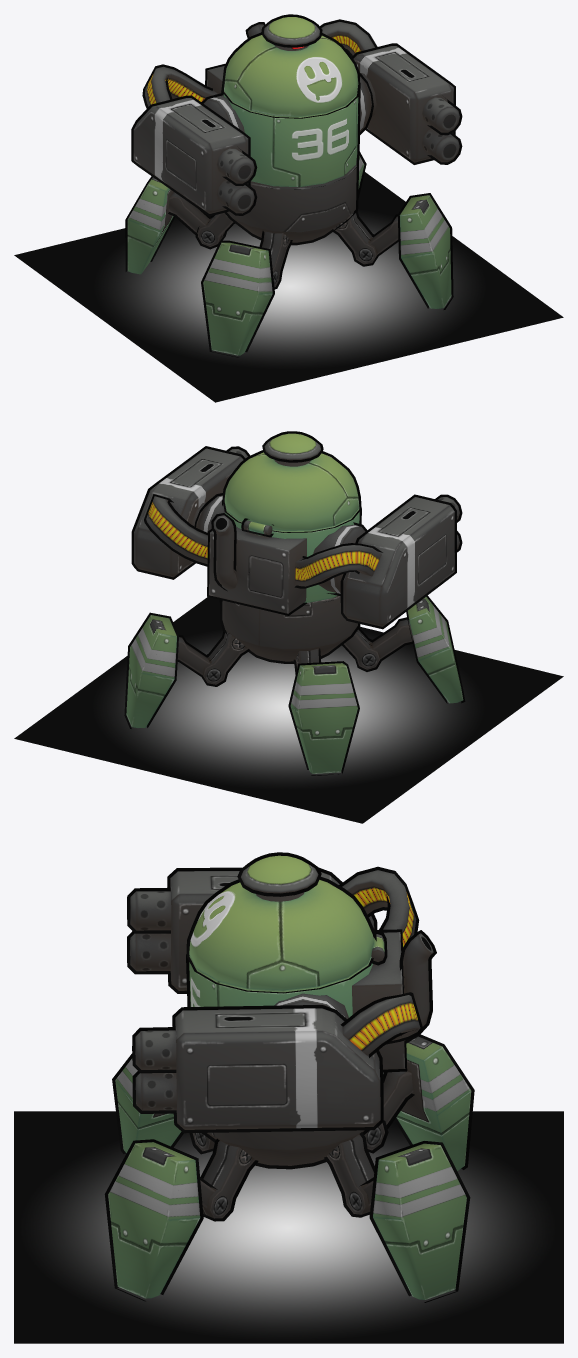
The model's file is KawaiiMeka.glb.
The picture shows the model from 3 angles, top to bottom: view 1: azimuth 30°, elevation 25°; view 2: azimuth 150°, elevation 25°; view 3: azimuth 270°, elevation 25°; orthographic projection. The views are drawn at different scales.
Visible parts, largest first — view 1: KawaiiMeka_vat; view 2: KawaiiMeka_vat; view 3: KawaiiMeka_vat.
Part boxes in pixels (bbox=[...]): KawaiiMeka_vat: bbox=[14, 14, 563, 402]; KawaiiMeka_vat: bbox=[14, 431, 563, 823]; KawaiiMeka_vat: bbox=[14, 852, 563, 1343].
Bounding box in the file's own units: 4.99 × 3.74 × 4.99.
Materials: 3 (2 with a texture image).
